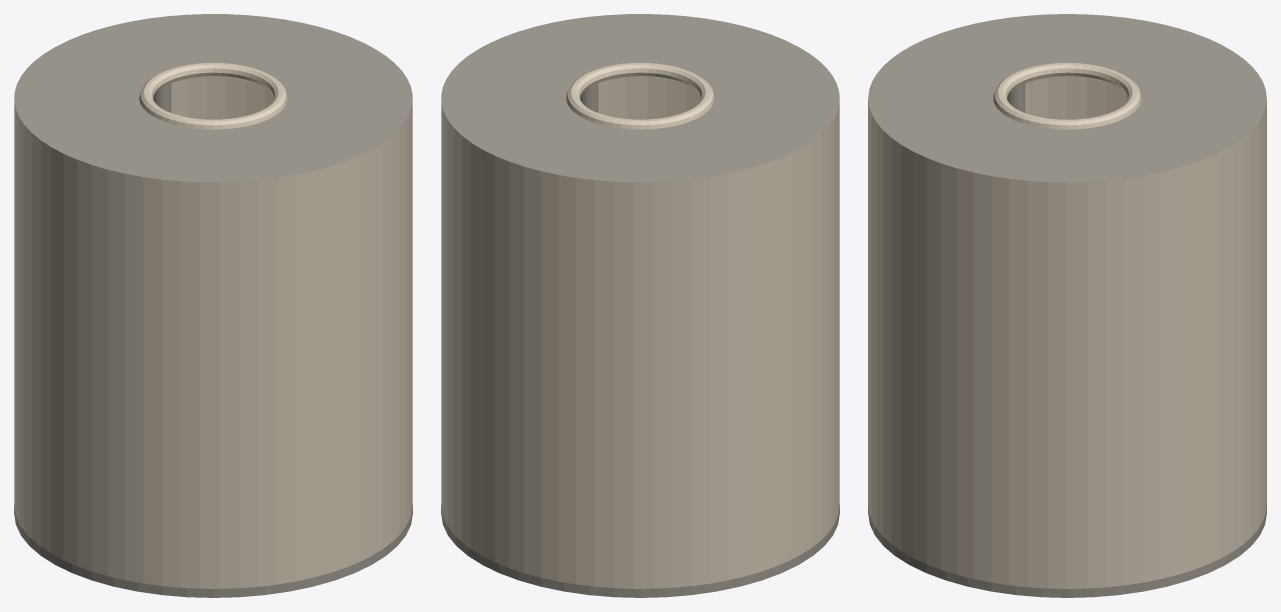
3 renders of one model, left to right at view 1: azimuth 30°, elevation 25°; view 2: azimuth 150°, elevation 25°; view 3: azimuth 270°, elevation 25°, orthographic.
Visible parts, largest first — view 1: wall, ceiling, oculus_ring, floor, column1; view 2: wall, ceiling, oculus_ring, floor, column5; view 3: wall, ceiling, oculus_ring, floor, column3.
Boxes of the visible parts, box(x1,y1,x2,y2) form: wall: box(14, 76, 412, 588); ceiling: box(14, 14, 412, 182); oculus_ring: box(139, 63, 287, 129); floor: box(14, 505, 412, 597); column1: box(149, 21, 171, 112); wall: box(441, 76, 839, 588); ceiling: box(441, 14, 839, 182); oculus_ring: box(566, 63, 714, 129); floor: box(441, 505, 839, 597); column5: box(576, 21, 598, 112); wall: box(868, 76, 1266, 588); ceiling: box(868, 14, 1266, 182); oculus_ring: box(993, 63, 1141, 129); floor: box(868, 505, 1266, 597); column3: box(1003, 21, 1025, 112).
Bounding box in the file's own units: 8 × 9.33 × 8.
